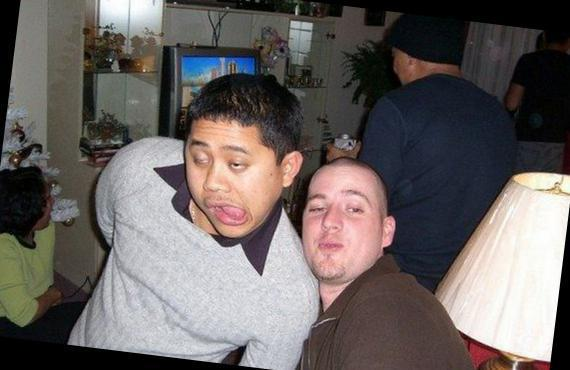Drunk: (187, 119, 275, 236), (306, 174, 375, 275)
